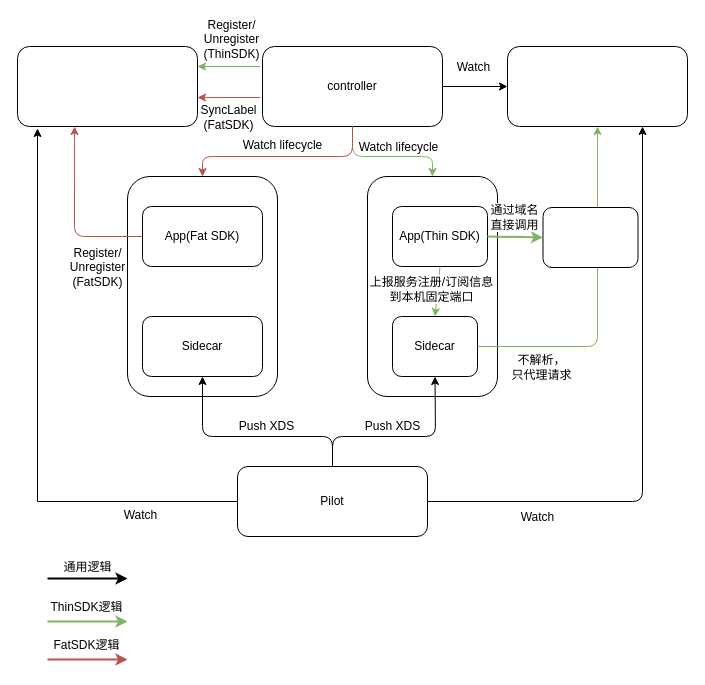
The diagram is 705 pixels wide and 685 high, and some of its shapes have lost their labels. The shapes that lost their labels are listed below. From the top down, each one's centre as x and y in pixels, then its label:
At (107,86): "ConfigServer".
At (597,86): "Service CRDS".
At (590,237): "Service Registry HTTP Service".
